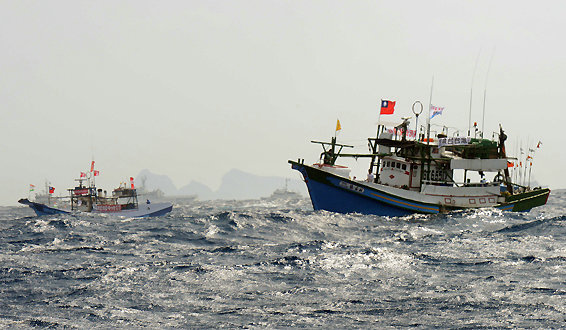otherboat: (281, 96, 553, 225), (15, 158, 174, 221)
